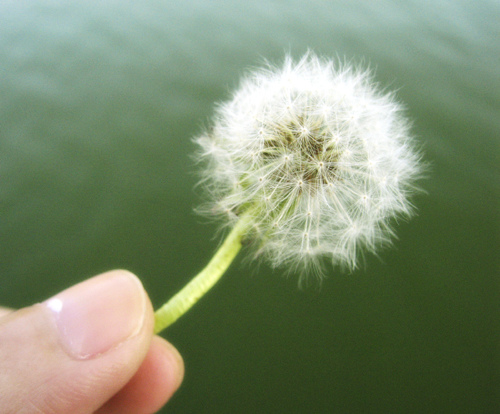dandelion: (176, 35, 444, 304)
